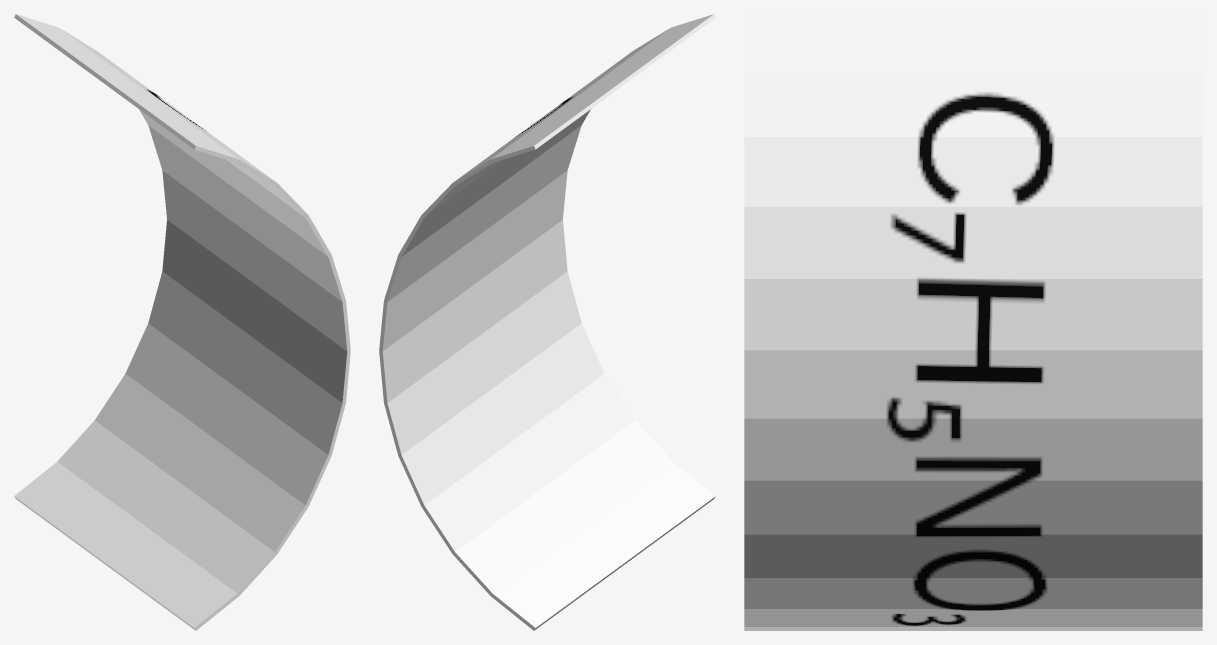
File: 2-Nitrobenzaldehyde etichetta.fbx
The picture shows the model from 3 angles, left to right: view 1: azimuth 30°, elevation 25°; view 2: azimuth 150°, elevation 25°; view 3: azimuth 270°, elevation 25°; orthographic projection. The views are drawn at different scales.
Visible parts, largest first — view 1: Bottiglia base.001; view 2: Bottiglia base.001; view 3: Bottiglia base.001.
Part boxes in pixels (left/top/right/bottom): Bottiglia base.001: left=14, top=14, right=350, bottom=630; Bottiglia base.001: left=379, top=14, right=715, bottom=630; Bottiglia base.001: left=744, top=14, right=1202, bottom=630.
Size of the model in its own units: 4.37 by 12.94 by 8.72.
